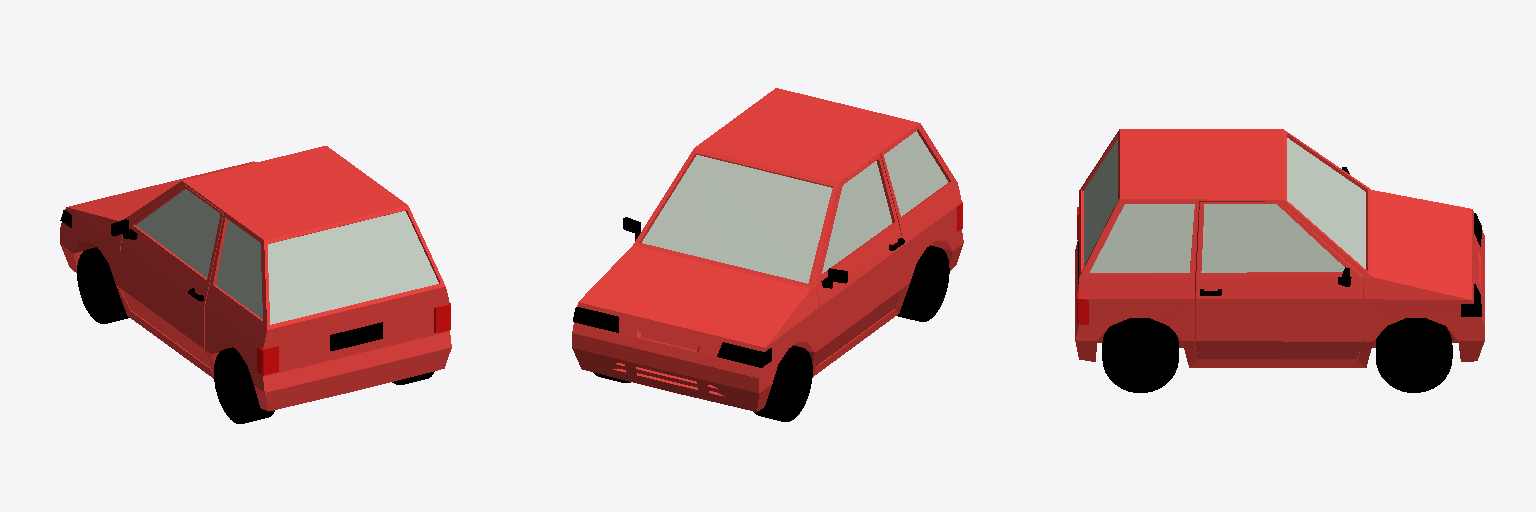
3 views of the same model, side by side, from view 1: azimuth 30°, elevation 25°; view 2: azimuth 150°, elevation 25°; view 3: azimuth 270°, elevation 25° (orthographic).
Visible parts, largest first — view 1: Coche:polySurface3; view 2: Coche:polySurface3; view 3: Coche:polySurface3.
Part boxes in pixels (x1,y1,x2,y2): Coche:polySurface3: (60, 146, 451, 423); Coche:polySurface3: (572, 88, 963, 421); Coche:polySurface3: (1075, 129, 1484, 392).
Bounding box in the file's own units: 1.38 × 1.09 × 2.19.
Materials: 7 (4 with a texture image).